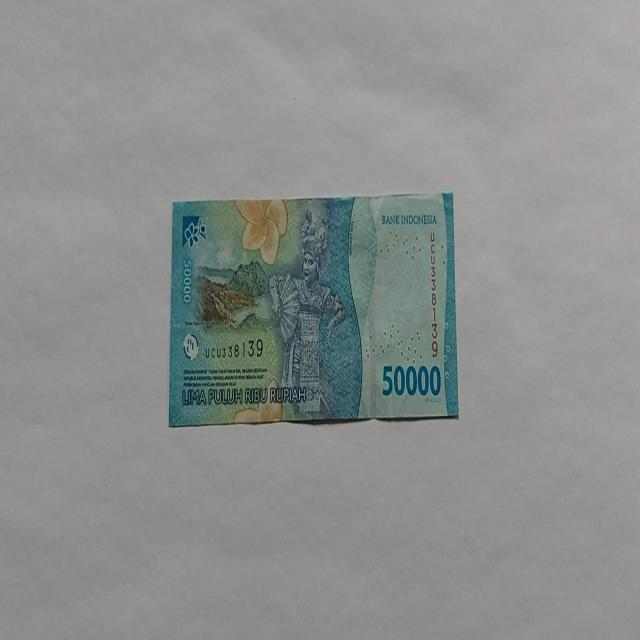lima puluh ribu rupiah: (167, 191, 459, 427)
